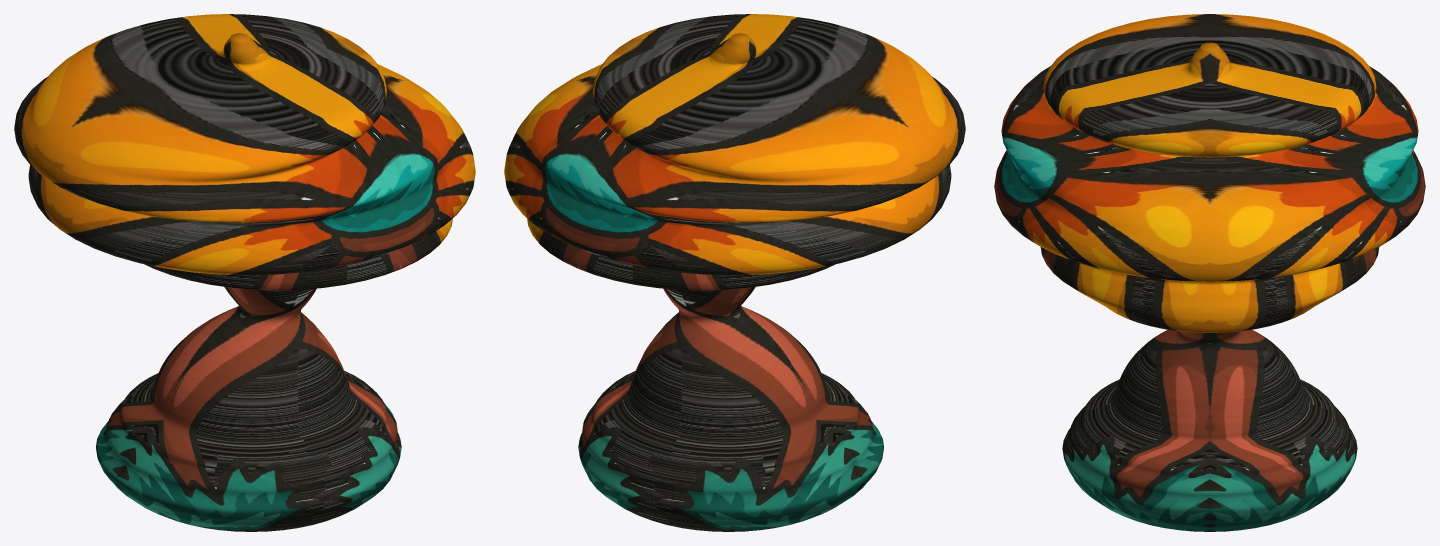
The model's file is orange_flower.glb.
3 views of the same model, side by side, from view 1: azimuth 30°, elevation 25°; view 2: azimuth 150°, elevation 25°; view 3: azimuth 270°, elevation 25° (orthographic). The views are drawn at different scales.
Visible parts, largest first — view 1: orange_flower; view 2: orange_flower; view 3: orange_flower.
Part boxes in pixels (left/top/right/bottom): orange_flower: left=14, top=14, right=475, bottom=531; orange_flower: left=504, top=14, right=965, bottom=531; orange_flower: left=994, top=14, right=1425, bottom=531.
Bounding box in the file's own units: 0.9972 × 1.09 × 0.9576.
Materials: 1 (1 with a texture image).
